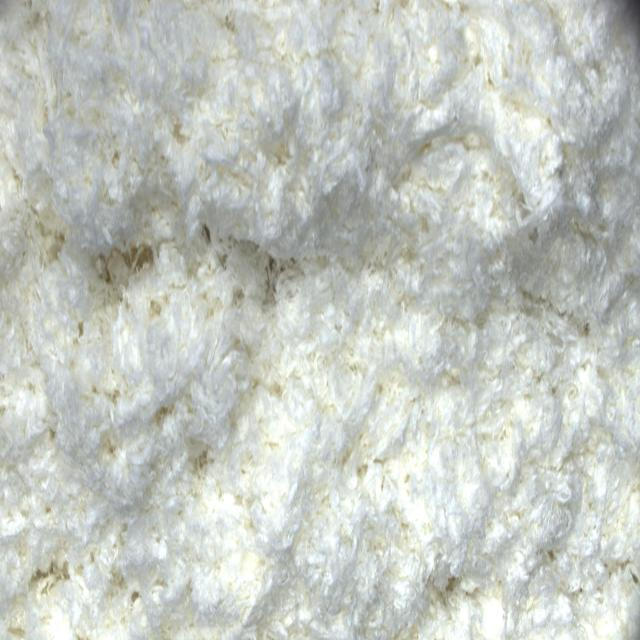dust: (97, 250, 156, 273)
